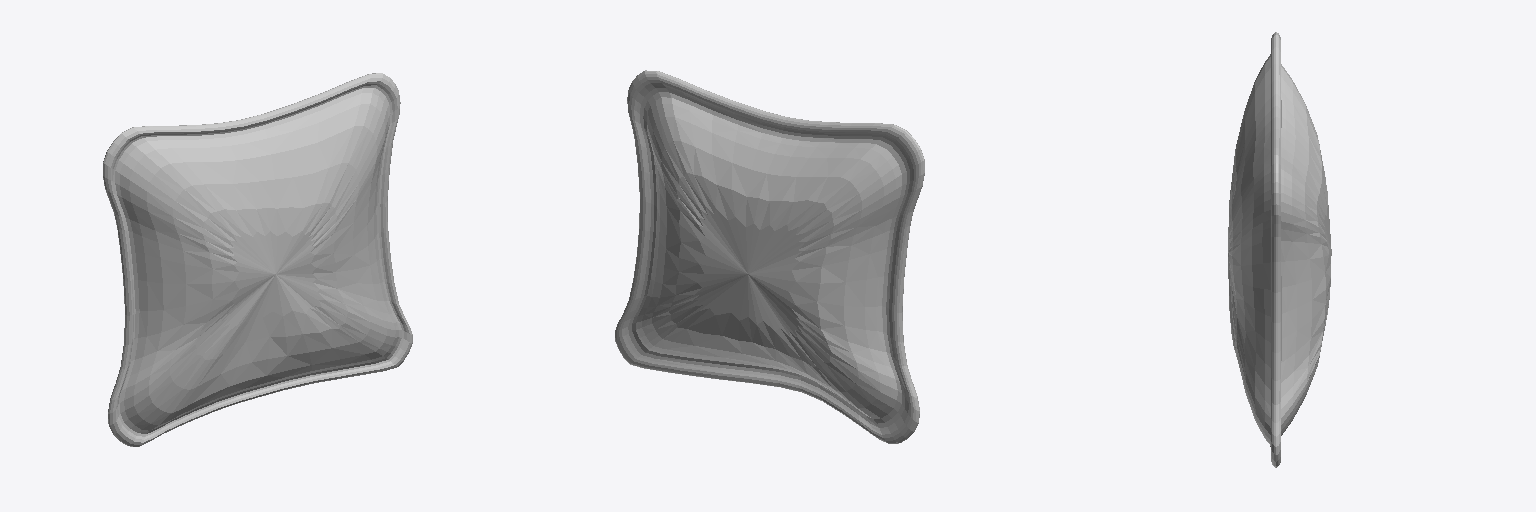
The model's file is Jack_bean_bag.obj.
3 views of the same model, side by side, from view 1: azimuth 30°, elevation 25°; view 2: azimuth 150°, elevation 25°; view 3: azimuth 270°, elevation 25° (orthographic).
Visible parts, largest first — view 1: Plane; view 2: Plane; view 3: Plane.
Boxes of the visible parts, x1,y1,x2,y2 form: Plane: [103, 73, 412, 446]; Plane: [615, 70, 924, 443]; Plane: [1228, 32, 1331, 467].
Bounding box in the file's own units: 20.52 × 20.29 × 5.92.